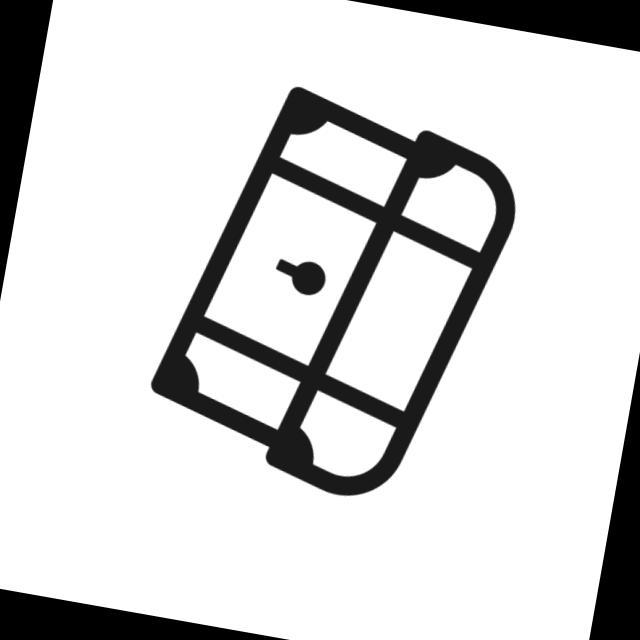treasure_box: (130, 62, 533, 521)
